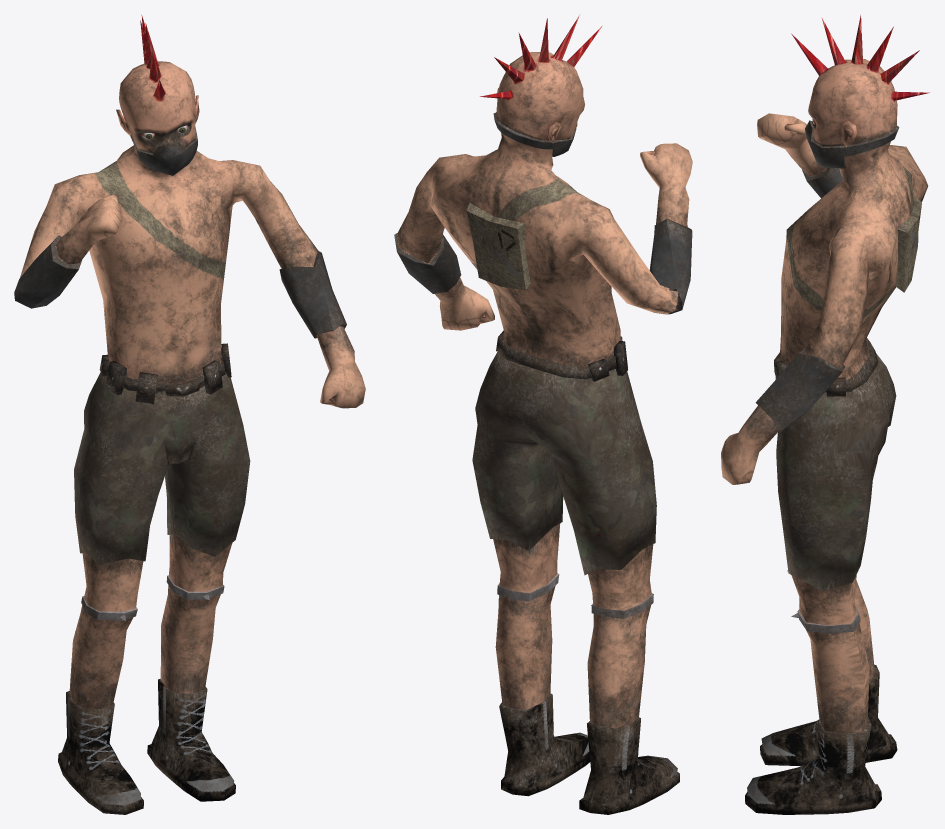
File: Anim_perder_1_npc2.0052.obj
The picture shows the model from 3 angles, left to right: view 1: azimuth 30°, elevation 25°; view 2: azimuth 150°, elevation 25°; view 3: azimuth 270°, elevation 25°; orthographic projection. The views are drawn at different scales.
Visible parts, largest first — view 1: polySurface1; view 2: polySurface1; view 3: polySurface1.
Part boxes in pixels (left/top/right/bottom): polySurface1: left=14, top=15, right=365, bottom=814; polySurface1: left=394, top=15, right=692, bottom=814; polySurface1: left=721, top=15, right=929, bottom=814.
Bounding box in the file's own units: 4.14 × 10.11 × 2.47.
